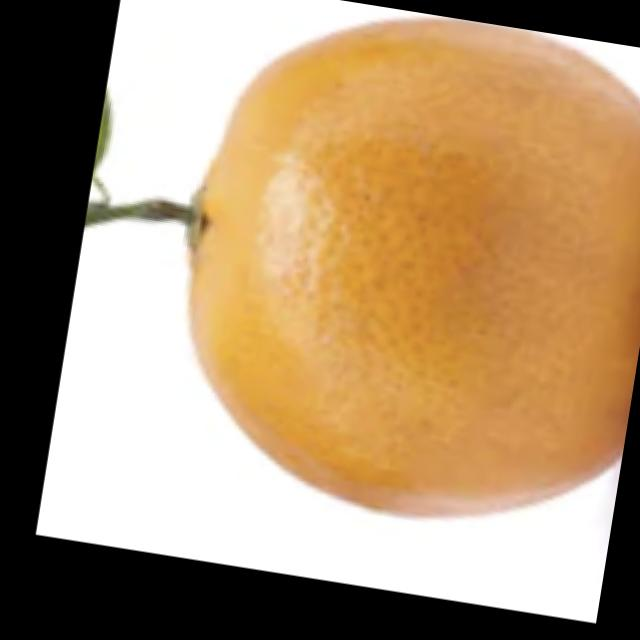orange: (140, 0, 640, 556)
